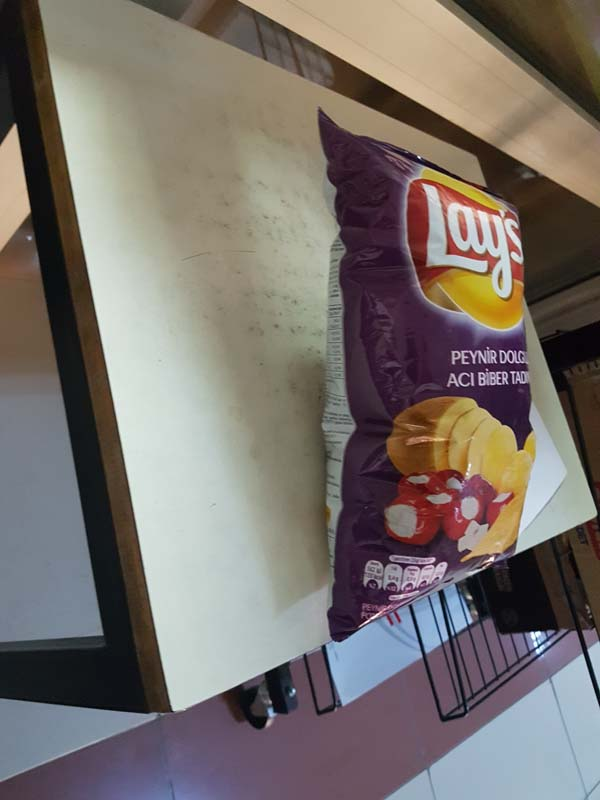layspeynirsoslu: (298, 84, 543, 648)
